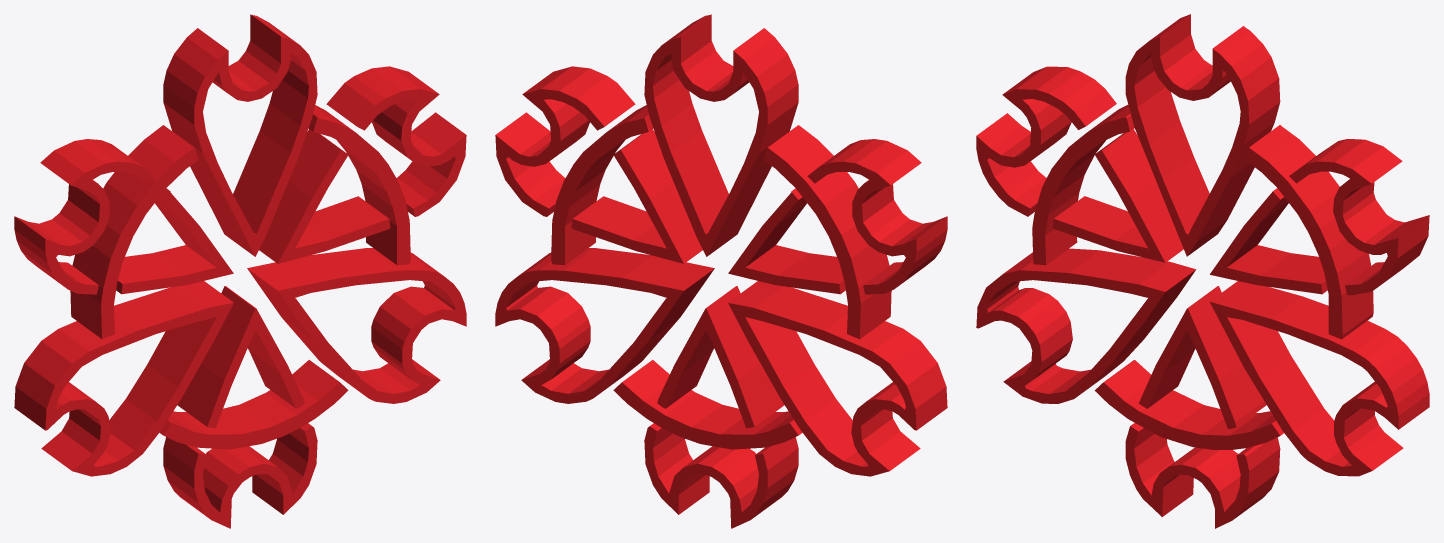
File: wick-decommodification.glb
3 views of the same model, side by side, from view 1: azimuth 30°, elevation 25°; view 2: azimuth 150°, elevation 25°; view 3: azimuth 330°, elevation 25° (orthographic).
Size of the model in its own units: 0.0998 by 0.1087 by 0.0127.
